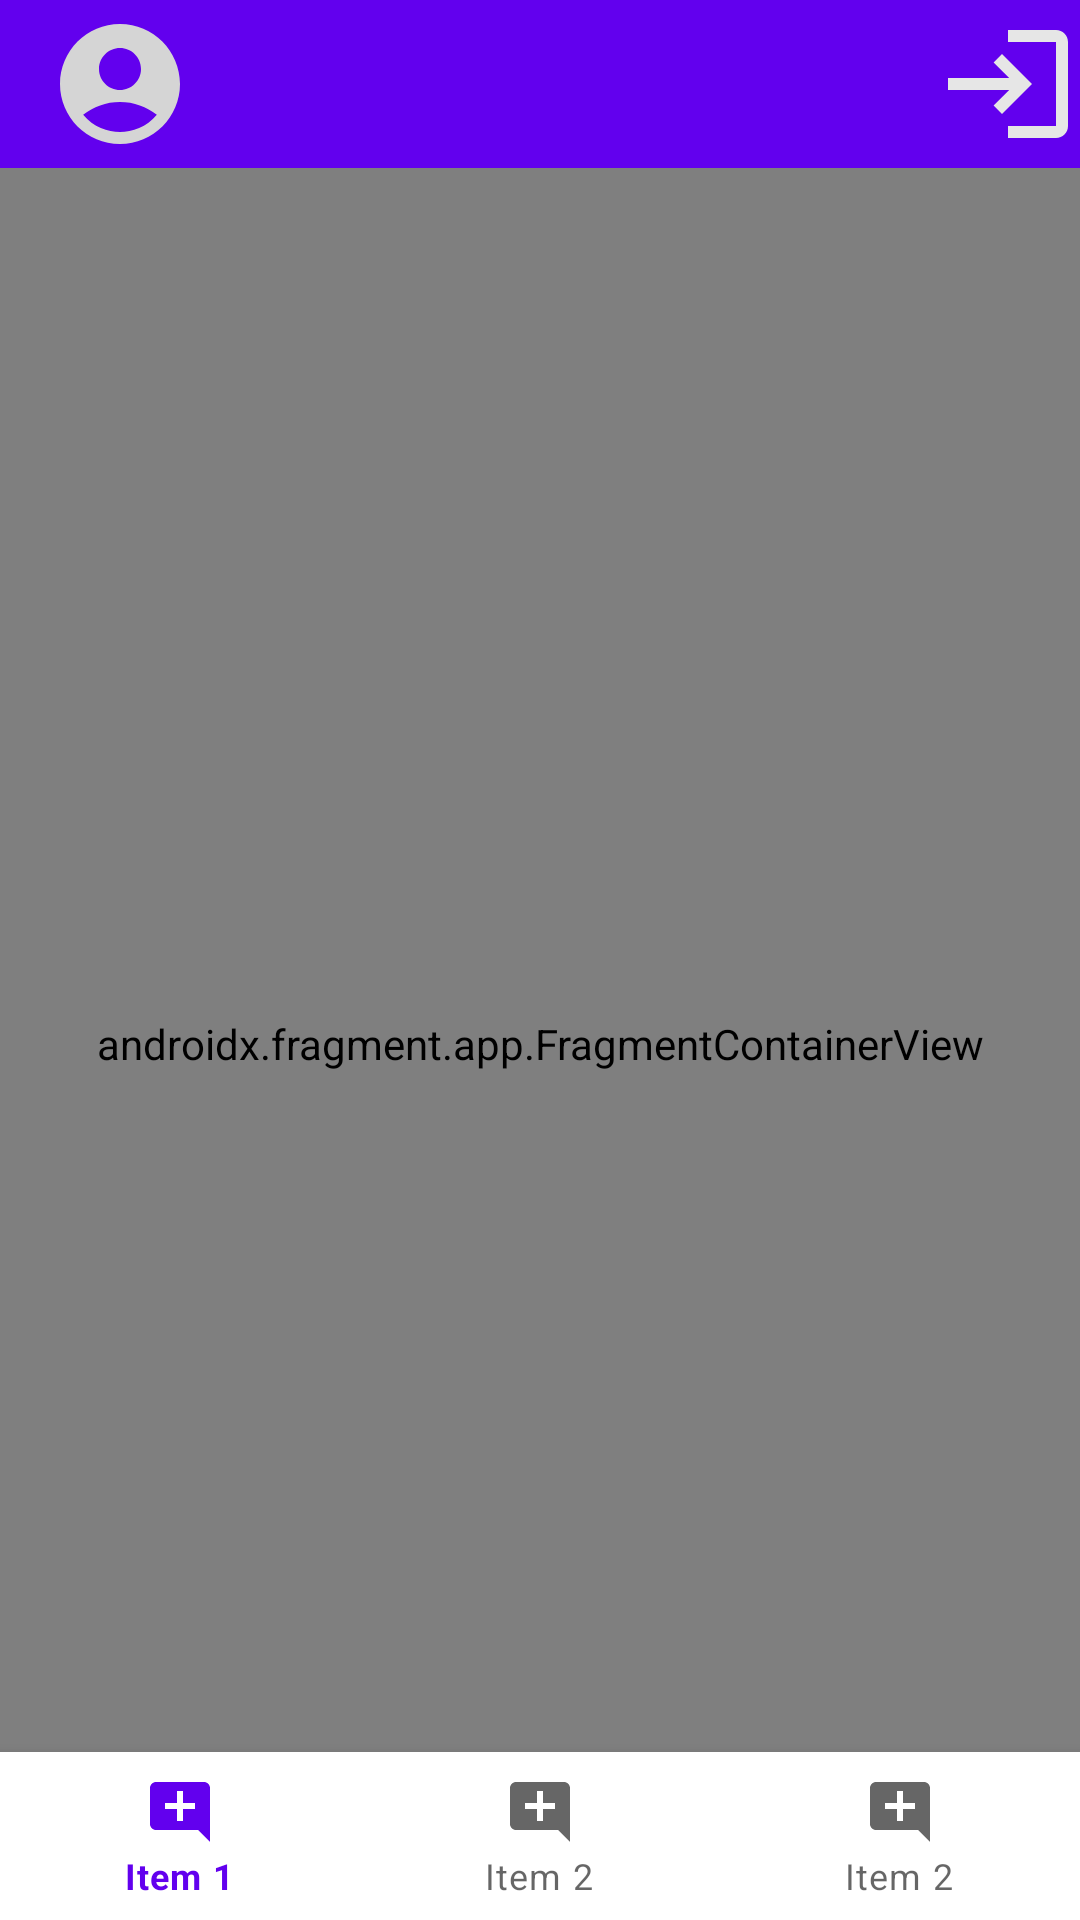

Screen size 1080 × 1920. Icon name, then its center in pixels as [x,y]:
account circle: [120,84]
login: [1008,84]
